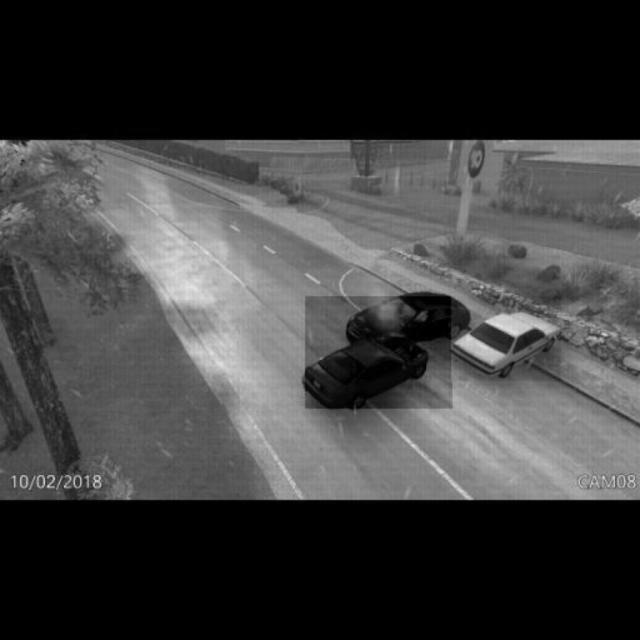accident: (306, 296, 453, 408)
vehicle: (452, 296, 562, 380)
